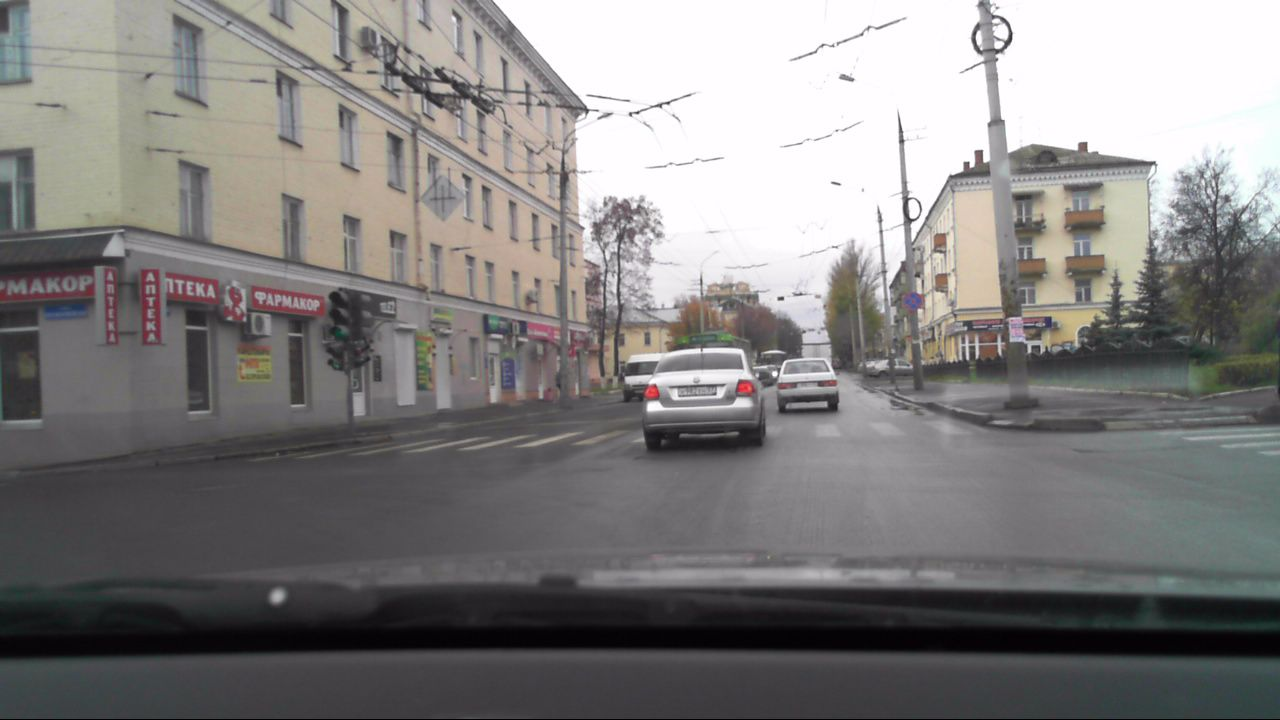No Parking: (901, 292, 922, 312)
